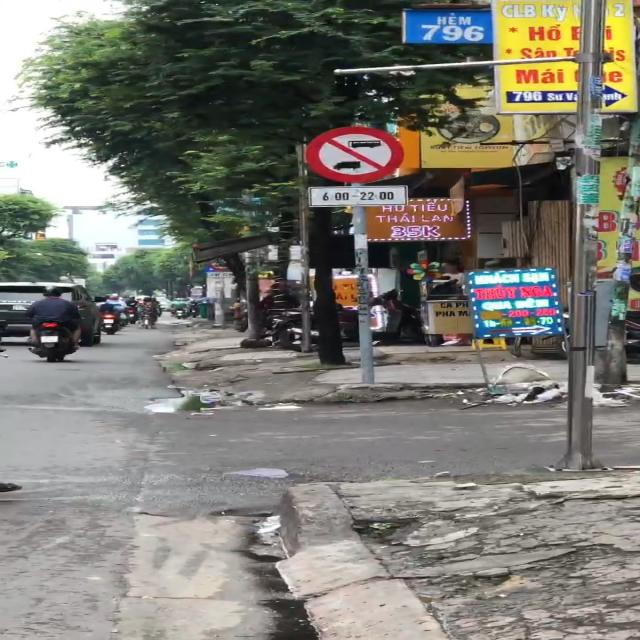Bien bao cam xe oto khach va xe oto tai: (295, 119, 410, 184)
